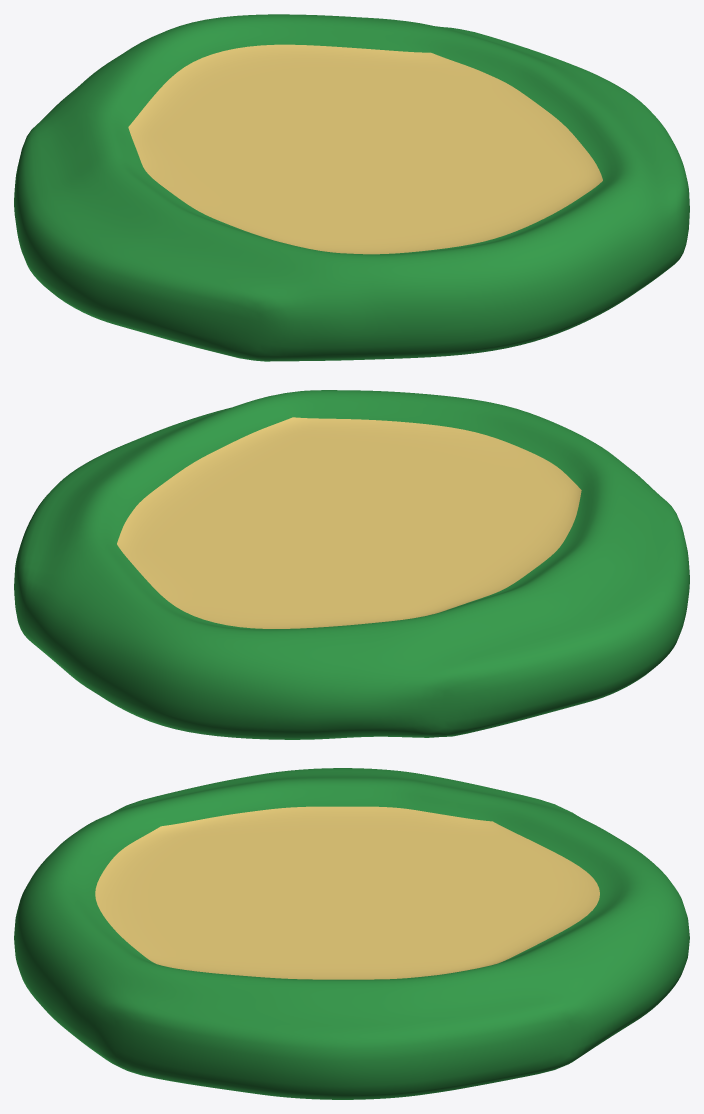
The model's file is terrain2.fbx.
3 views of the same model, one above another, from view 1: azimuth 30°, elevation 25°; view 2: azimuth 150°, elevation 25°; view 3: azimuth 270°, elevation 25° (orthographic). The views are drawn at different scales.
Parts seen in each view (by area): view 1: Cube; view 2: Cube; view 3: Cube.
Part boxes in pixels (left/top/right/bottom): Cube: left=14, top=14, right=689, bottom=361; Cube: left=14, top=390, right=689, bottom=739; Cube: left=14, top=768, right=689, bottom=1099.
Bounding box in the file's own units: 1344 × 201 × 1360.
